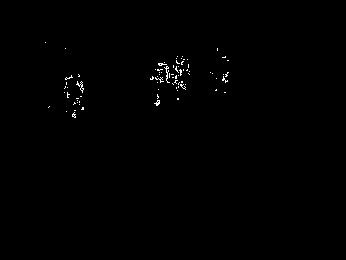person: (149, 59, 171, 107), (170, 53, 191, 102)
